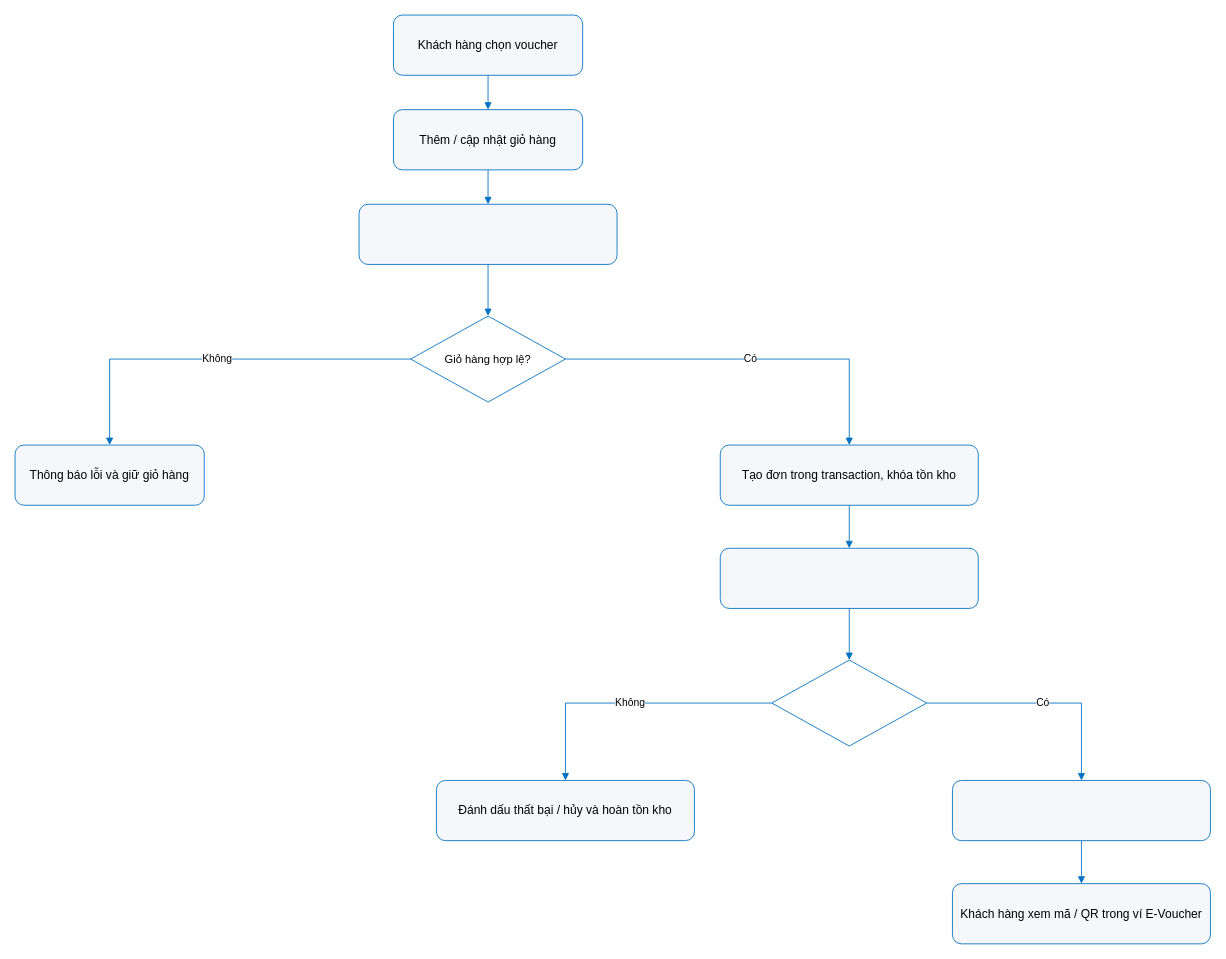
Image size: 1226x959. Some labels were removed from this diagram. The box of each missing label's shape, as (x1, y1, x2, y2) in pixels:
Cập nhật Paid và phát hành E-Voucher: (952, 780, 1210, 841)
Kiểm tra tồn kho, trạng thái và hạn dùng: (358, 203, 617, 264)
Thanh toán MoMo / PayPal / VietQR: (719, 547, 978, 608)
Thanh toán thành công?: (771, 659, 927, 746)
